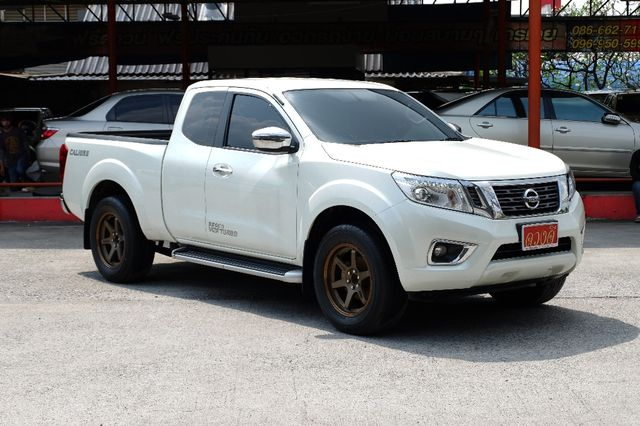pickup: (56, 70, 589, 336)
